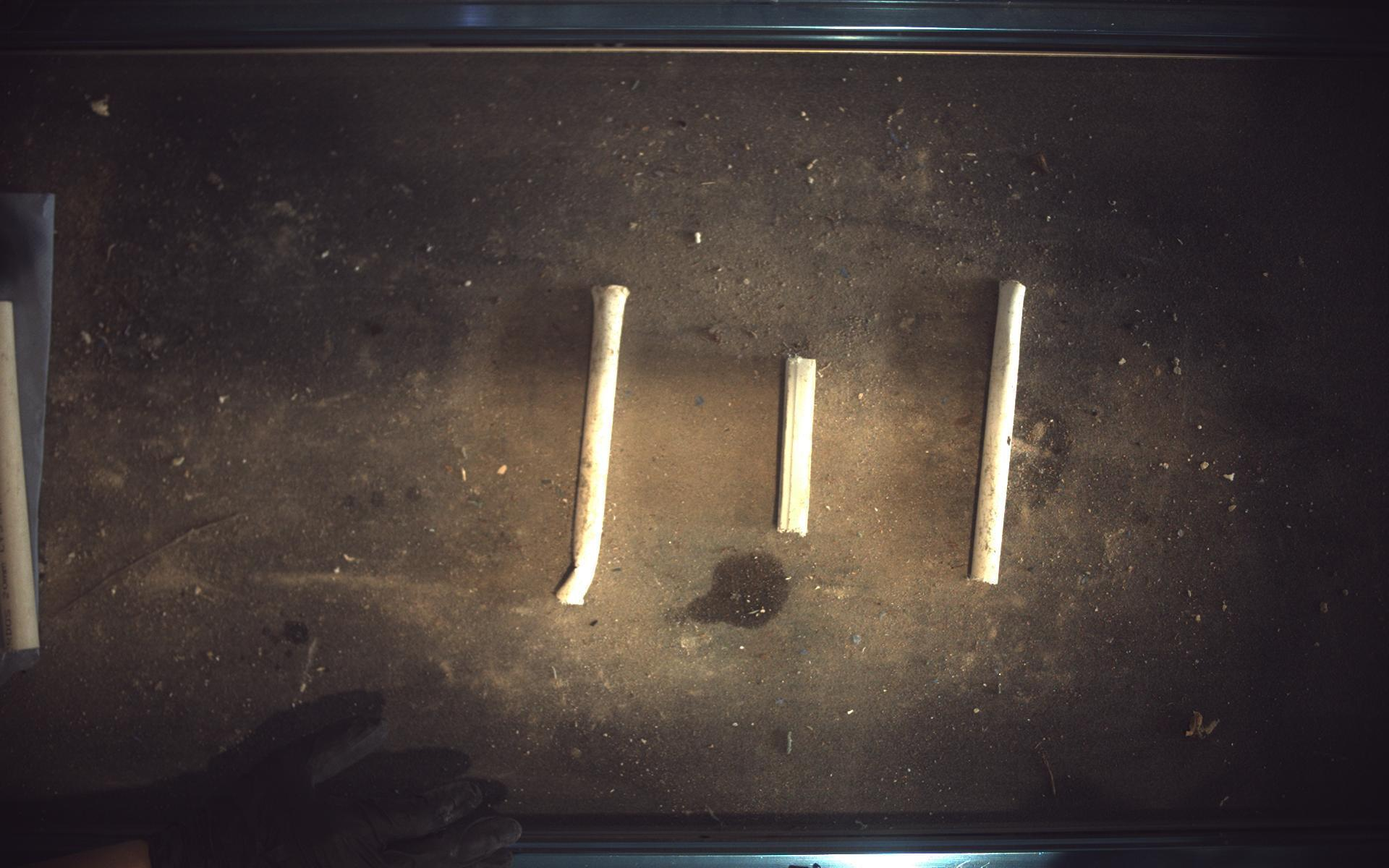pipes: (556, 284, 629, 606), (972, 279, 1029, 585), (1, 302, 41, 651)
plastic: (778, 356, 817, 535)
